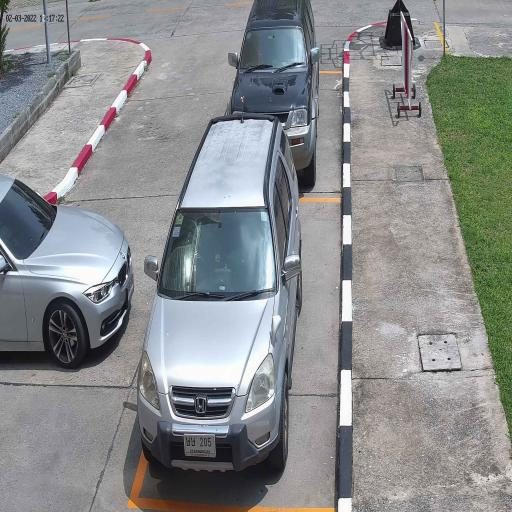car: (136, 111, 304, 479), (0, 172, 136, 370), (227, 0, 319, 189)
